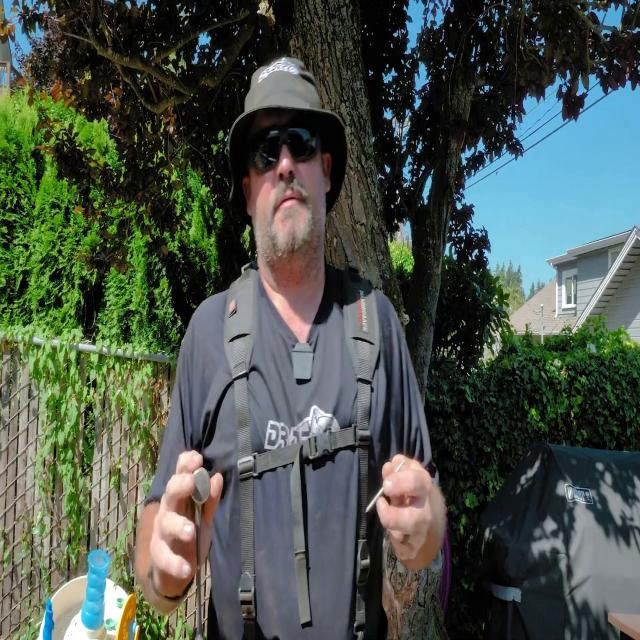hammer: (189, 467, 211, 640)
